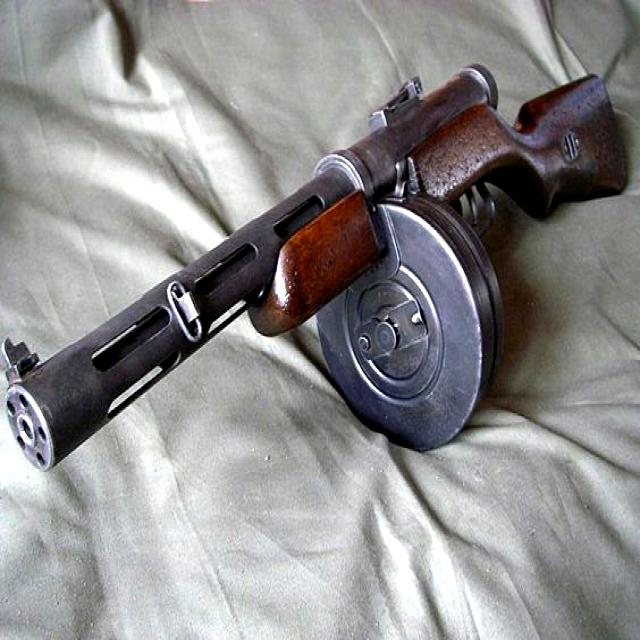shotgun: (0, 62, 634, 521)
